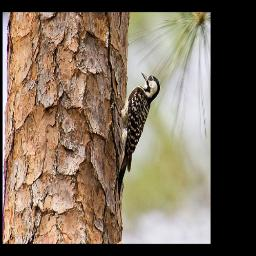Woodpecker: (110, 73, 160, 201)
